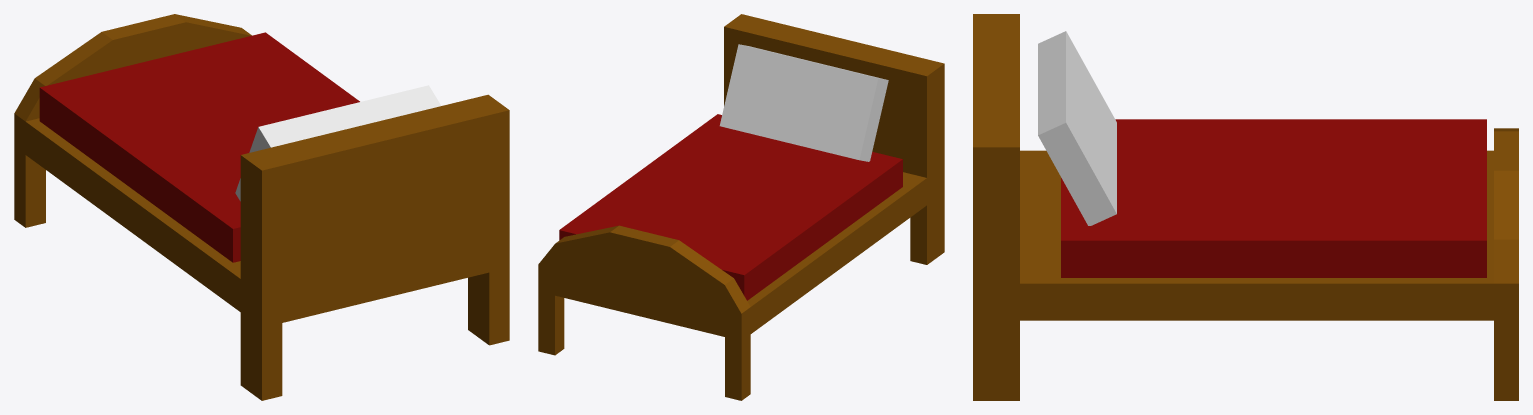
Rendered from Bed.fbx.
3 renders of one model, left to right at view 1: azimuth 30°, elevation 25°; view 2: azimuth 150°, elevation 25°; view 3: azimuth 270°, elevation 25°, orthographic. The views are drawn at different scales.
Visible parts, largest first — view 1: Bed; view 2: Bed; view 3: Bed.
Boxes of the visible parts, box(x1,y1,x2,y2) form: Bed: box(14, 14, 509, 400); Bed: box(538, 14, 944, 400); Bed: box(973, 14, 1518, 400).
Size of the model in its own units: 100 by 173 by 90.2.
